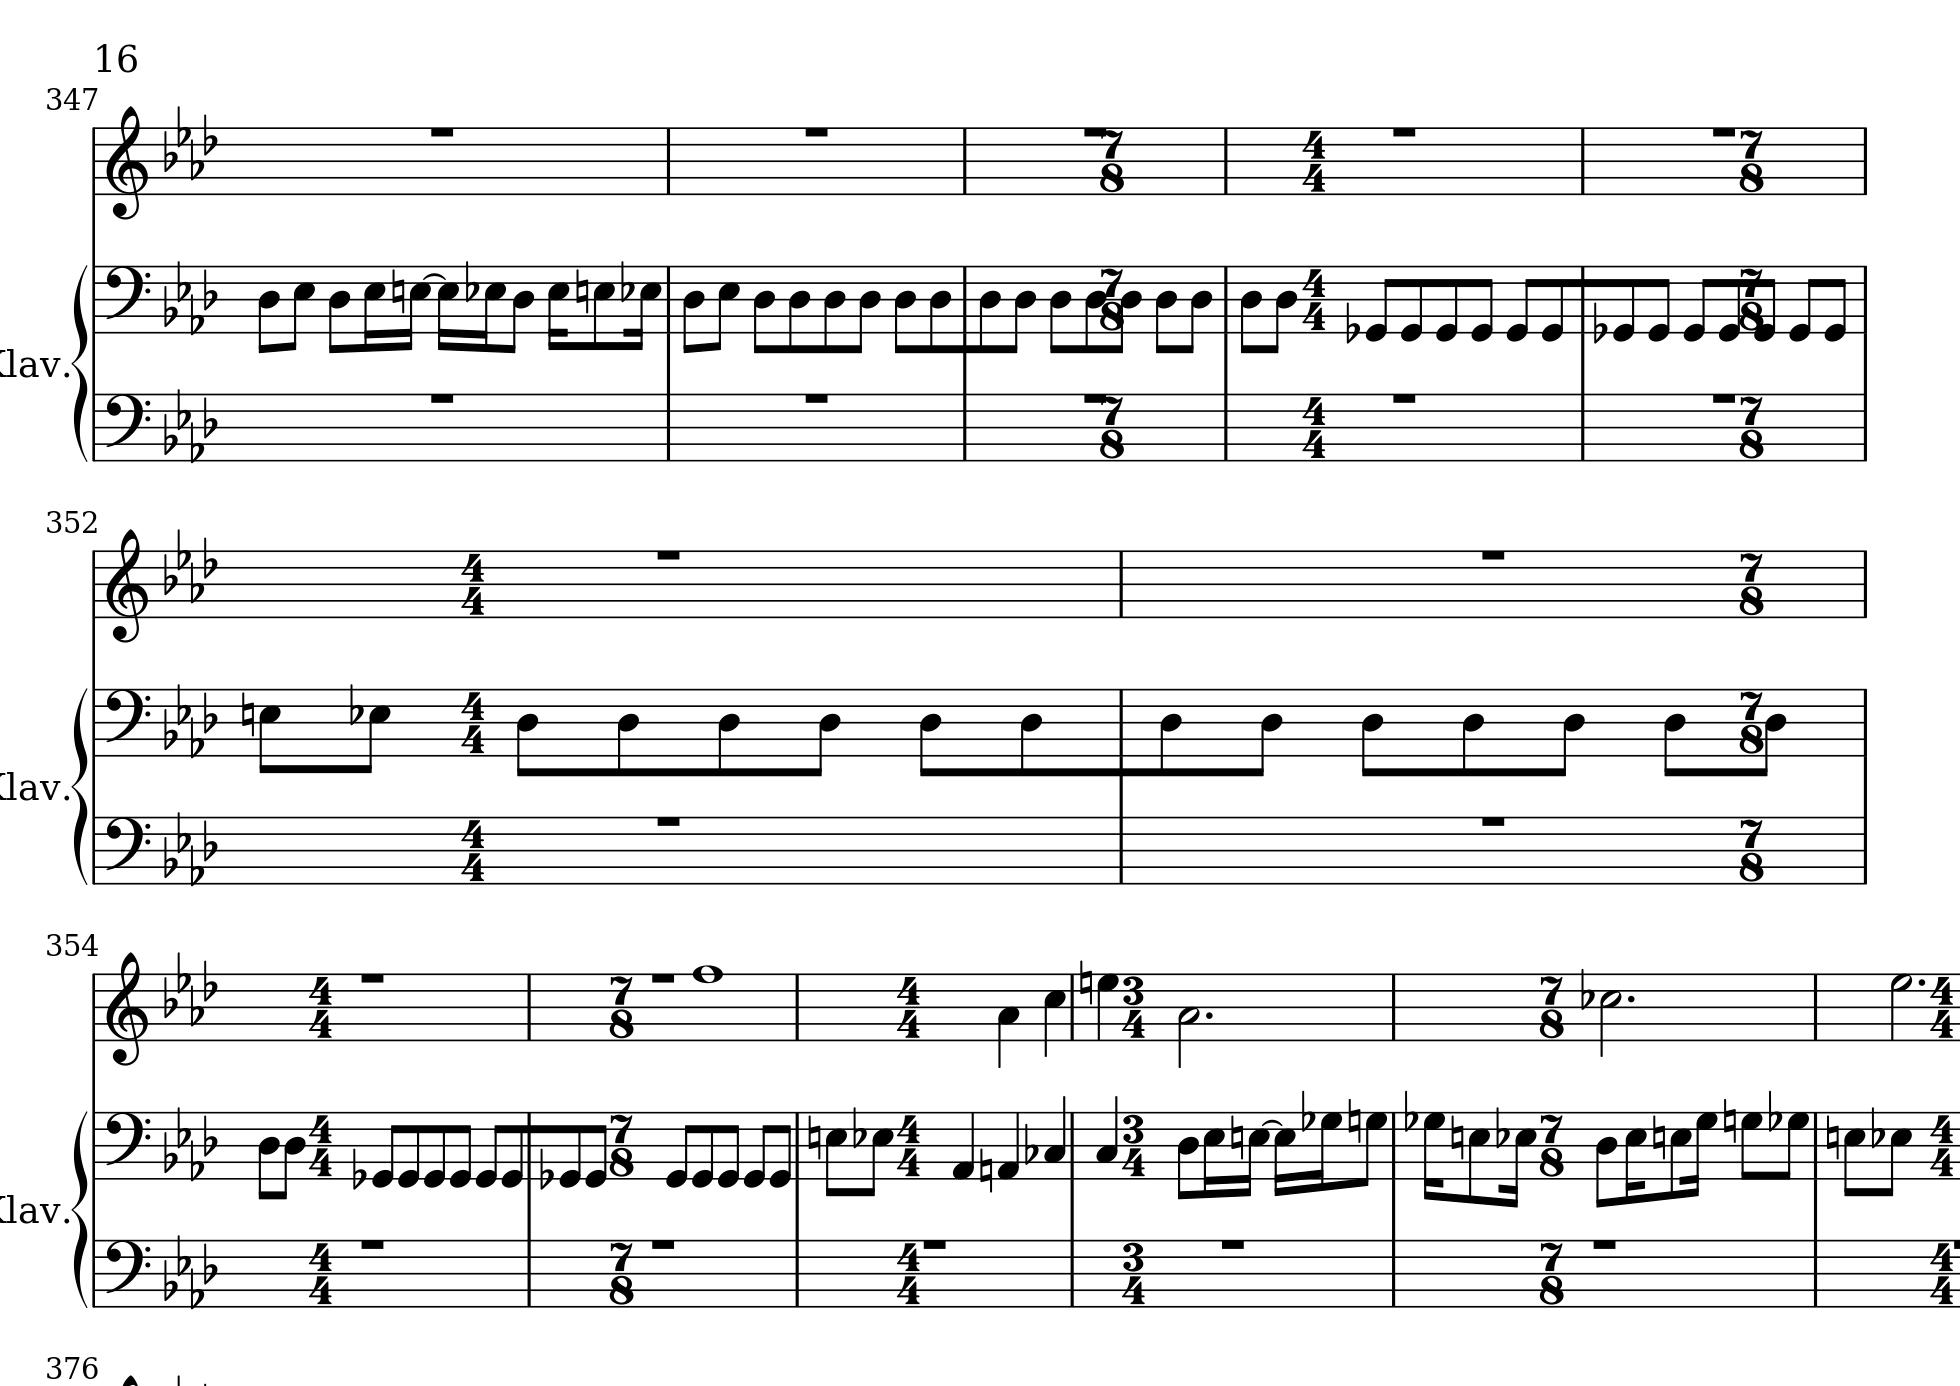1: (96, 40, 111, 73)
16_4: (1737, 687, 1764, 759)
16_5: (1501, 1111, 1536, 1209), (627, 264, 661, 349), (400, 264, 430, 352), (475, 265, 505, 354), (1239, 1111, 1269, 1198), (1624, 1110, 1647, 1204), (361, 264, 385, 352), (436, 264, 460, 352), (1272, 1111, 1296, 1197), (546, 264, 568, 352), (1203, 1110, 1225, 1198)
16_7: (1687, 1110, 1719, 1197), (1311, 1108, 1342, 1192), (1422, 1108, 1446, 1201)
1_8: (691, 961, 724, 1042)
2: (79, 508, 97, 534)
2_3: (1177, 970, 1201, 1069)
2_5: (1599, 972, 1624, 1057)
2_7: (1890, 972, 1914, 1042)
3: (1120, 1239, 1146, 1272), (1122, 1111, 1146, 1144), (1122, 973, 1146, 1005), (43, 84, 63, 112), (43, 507, 63, 535), (43, 930, 63, 957), (43, 1354, 63, 1380)
4: (306, 1005, 337, 1039), (306, 1272, 337, 1306), (306, 1237, 336, 1273), (457, 550, 489, 583), (457, 816, 487, 850), (306, 972, 336, 1006), (457, 721, 487, 754), (1119, 1005, 1149, 1038), (1927, 1006, 1957, 1039), (1300, 393, 1329, 427), (1300, 426, 1329, 460), (459, 849, 487, 883), (895, 972, 924, 1006), (1929, 1239, 1957, 1273), (895, 1272, 924, 1306), (1929, 1272, 1957, 1306), (1300, 127, 1329, 160), (459, 583, 487, 616), (459, 688, 487, 721), (897, 1111, 925, 1144), (307, 1144, 336, 1177), (1929, 1144, 1957, 1177), (895, 1144, 924, 1177), (1120, 1272, 1149, 1305), (1302, 265, 1329, 300), (1929, 1111, 1956, 1146), (895, 1239, 922, 1273), (1302, 160, 1329, 193), (1302, 298, 1329, 331), (1929, 972, 1956, 1005), (895, 1006, 922, 1039), (1122, 1144, 1149, 1177), (309, 1111, 334, 1144), (61, 84, 81, 112), (81, 931, 99, 958)
4_1: (949, 1110, 976, 1180), (997, 1110, 1020, 1180)
4_3: (996, 970, 1021, 1068), (1044, 1093, 1068, 1179), (1095, 1093, 1119, 1179)
4_5: (1042, 970, 1068, 1059)
4_7: (1095, 970, 1119, 1042)
5: (63, 928, 79, 958), (63, 507, 79, 535)
6: (115, 40, 138, 72), (79, 1354, 100, 1378)
7: (606, 973, 637, 1005), (1737, 550, 1767, 583), (606, 1239, 634, 1273), (607, 1111, 634, 1147), (1537, 973, 1566, 1006), (1539, 1111, 1567, 1144), (1099, 127, 1128, 159), (1737, 817, 1765, 849), (1738, 688, 1765, 721), (1099, 393, 1126, 424), (1740, 265, 1765, 298), (1537, 1240, 1563, 1273), (1738, 127, 1764, 159), (1101, 265, 1126, 295), (1738, 396, 1764, 426), (81, 84, 97, 112), (63, 1354, 81, 1380)
8: (1534, 1273, 1566, 1305), (1098, 300, 1129, 331), (1737, 850, 1767, 883), (1738, 160, 1767, 195), (606, 1275, 637, 1305), (607, 1006, 636, 1039), (1738, 427, 1767, 460), (1098, 160, 1126, 193), (1737, 585, 1765, 616), (1539, 1006, 1566, 1039), (1098, 427, 1125, 460), (1740, 298, 1765, 333), (1738, 724, 1765, 756), (607, 1147, 634, 1177), (1539, 1147, 1566, 1177)
8_0: (1365, 262, 1398, 343), (1681, 264, 1714, 343), (1506, 262, 1536, 343), (1788, 262, 1818, 343), (664, 1110, 694, 1189), (370, 1110, 400, 1188), (742, 1108, 771, 1189), (1434, 262, 1461, 343), (475, 1108, 502, 1189), (1611, 264, 1638, 343), (501, 1108, 526, 1189), (558, 1108, 583, 1189), (1470, 264, 1495, 343), (1540, 264, 1566, 343), (1647, 264, 1672, 343), (423, 1108, 447, 1189), (1401, 264, 1425, 343), (1824, 264, 1848, 343), (583, 1110, 607, 1189), (691, 1110, 715, 1189), (448, 1110, 472, 1188), (717, 1110, 741, 1188), (1717, 264, 1740, 343), (399, 1110, 421, 1188), (769, 1110, 792, 1188), (1762, 265, 1779, 342)
8_4: (1552, 685, 1587, 778), (808, 685, 841, 778), (1251, 685, 1284, 778), (1006, 262, 1038, 355), (505, 264, 535, 355), (852, 264, 880, 355), (1269, 264, 1297, 355), (277, 1110, 306, 1201), (1185, 264, 1213, 354), (1761, 685, 1788, 777), (1594, 1110, 1618, 1210), (1116, 265, 1143, 354), (615, 685, 640, 778), (715, 685, 741, 778), (1018, 685, 1044, 778), (1461, 685, 1486, 778), (1662, 685, 1687, 778), (1159, 685, 1185, 777), (787, 262, 811, 355), (918, 685, 942, 778), (1360, 685, 1384, 778), (256, 264, 280, 355), (751, 264, 775, 355), (1155, 264, 1179, 355), (1239, 264, 1263, 355), (514, 687, 538, 778), (256, 1110, 280, 1201), (1176, 1110, 1200, 1201), (928, 264, 952, 354), (682, 264, 706, 352), (979, 262, 1002, 355), (1050, 262, 1072, 355), (328, 264, 351, 355), (823, 264, 846, 355), (894, 264, 916, 355), (1083, 265, 1104, 355)
8_5: (1881, 1111, 1914, 1198), (283, 264, 315, 352), (360, 687, 391, 775), (862, 1111, 894, 1198), (711, 264, 739, 352), (1467, 1111, 1491, 1206), (256, 687, 282, 775), (823, 1110, 847, 1198), (1842, 1111, 1866, 1198), (592, 262, 615, 352), (1669, 1108, 1692, 1198)
8_7: (1356, 1110, 1387, 1186), (1779, 1110, 1810, 1180), (1740, 1110, 1764, 1180)
A_F: (160, 682, 217, 759), (160, 810, 217, 886), (160, 1105, 217, 1180), (162, 259, 217, 336), (162, 526, 217, 603), (162, 1233, 217, 1309), (163, 103, 217, 181), (163, 948, 217, 1026), (162, 387, 217, 462)
Brace: (69, 684, 91, 886), (70, 1107, 91, 1306), (70, 261, 90, 463)
Fclef: (102, 391, 151, 462), (103, 685, 151, 757), (103, 1108, 151, 1180), (103, 262, 151, 333), (103, 814, 151, 885), (103, 1237, 151, 1308)
Flat: (349, 1144, 366, 1191), (1299, 1087, 1315, 1134), (1402, 1087, 1419, 1134), (1344, 300, 1360, 345), (1591, 300, 1608, 345), (346, 682, 363, 727), (1578, 967, 1594, 1012), (537, 1146, 553, 1191), (618, 259, 634, 303), (1023, 1122, 1039, 1165), (1494, 1105, 1509, 1150), (1767, 1087, 1782, 1132), (463, 259, 478, 303), (850, 1105, 865, 1149), (1869, 1105, 1884, 1149)
Gclef: (103, 103, 148, 220), (103, 526, 148, 643), (105, 949, 148, 1066)
Natural: (1449, 1111, 1465, 1162), (1824, 1111, 1840, 1162), (238, 688, 255, 738), (805, 1111, 822, 1161), (978, 1144, 994, 1194), (1651, 1111, 1668, 1161), (390, 265, 406, 313), (1077, 958, 1093, 1006), (1722, 1096, 1738, 1144), (574, 265, 589, 315), (1230, 1111, 1245, 1159), (1347, 1096, 1362, 1144)
Rests1: (1477, 810, 1510, 831), (426, 121, 459, 141), (801, 121, 832, 141), (1389, 121, 1420, 141), (426, 388, 457, 408), (652, 544, 684, 564), (357, 967, 388, 987), (799, 388, 832, 406), (652, 811, 685, 829), (646, 1234, 679, 1252), (1588, 1234, 1621, 1252), (1389, 388, 1420, 406), (1477, 544, 1509, 562), (357, 1234, 388, 1252), (1218, 1234, 1249, 1252), (921, 1234, 951, 1252), (1708, 123, 1740, 139), (646, 969, 678, 985), (1708, 390, 1740, 405), (1078, 123, 1107, 138), (1078, 390, 1108, 403)
Single_barline: (1113, 688, 1132, 760), (1386, 1111, 1404, 1180), (1113, 550, 1131, 616), (787, 973, 805, 1039), (1063, 973, 1081, 1039), (1065, 1111, 1083, 1177), (1113, 817, 1131, 882), (1857, 265, 1873, 334), (1809, 1111, 1825, 1179), (1857, 127, 1873, 193), (660, 127, 676, 193), (957, 127, 973, 193), (1575, 268, 1591, 334), (660, 394, 676, 460), (1857, 394, 1873, 460), (1857, 550, 1873, 616), (1857, 688, 1873, 754), (1807, 973, 1824, 1039), (520, 973, 537, 1039), (790, 1113, 807, 1179), (520, 1240, 537, 1306), (1065, 1240, 1081, 1306), (957, 394, 973, 459), (1386, 1239, 1401, 1306), (1809, 1239, 1824, 1306), (1218, 127, 1233, 193), (1575, 127, 1590, 193), (1218, 394, 1233, 460), (1575, 394, 1590, 460), (1386, 973, 1401, 1039), (790, 1240, 805, 1306), (661, 265, 676, 330), (1857, 817, 1872, 882), (87, 127, 100, 195), (87, 550, 100, 618), (87, 973, 100, 1041), (1219, 268, 1234, 328), (88, 265, 102, 331), (88, 688, 102, 754), (88, 1111, 102, 1177), (88, 393, 100, 459), (88, 1239, 100, 1305), (522, 1120, 535, 1179), (88, 816, 100, 880)
Slur: (421, 271, 447, 280), (1260, 1117, 1284, 1126)
TimeSig: (1300, 393, 1332, 460), (1927, 1239, 1959, 1306), (894, 973, 925, 1039), (459, 549, 489, 616), (459, 816, 489, 883), (1119, 1239, 1149, 1306), (1300, 127, 1330, 193), (1302, 265, 1332, 331), (1929, 1111, 1959, 1177), (894, 1240, 924, 1306), (1929, 975, 1959, 1039), (607, 972, 634, 1042), (1539, 1239, 1566, 1309), (459, 688, 487, 754), (897, 1111, 925, 1177), (1120, 1111, 1149, 1177), (307, 1240, 336, 1306), (609, 1110, 634, 1182), (307, 973, 334, 1041), (309, 1111, 336, 1179), (1740, 393, 1765, 463), (1122, 975, 1149, 1041), (1740, 127, 1765, 196), (1740, 814, 1765, 883), (1540, 973, 1566, 1042), (609, 1239, 634, 1308), (1740, 550, 1765, 618), (1101, 127, 1125, 196), (1540, 1111, 1564, 1180), (1102, 394, 1125, 460)
dot: (1624, 991, 1638, 1005), (1203, 1008, 1215, 1021)
